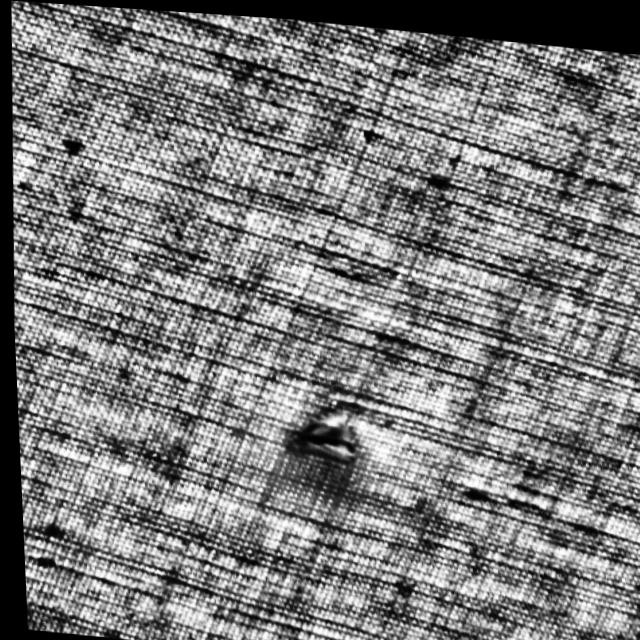Stitch: (280, 410, 361, 468)
